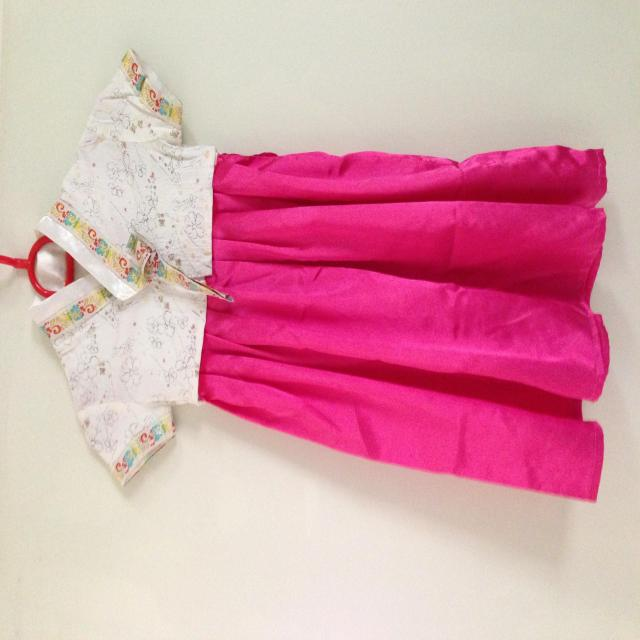Dress: (94, 32, 444, 640)
